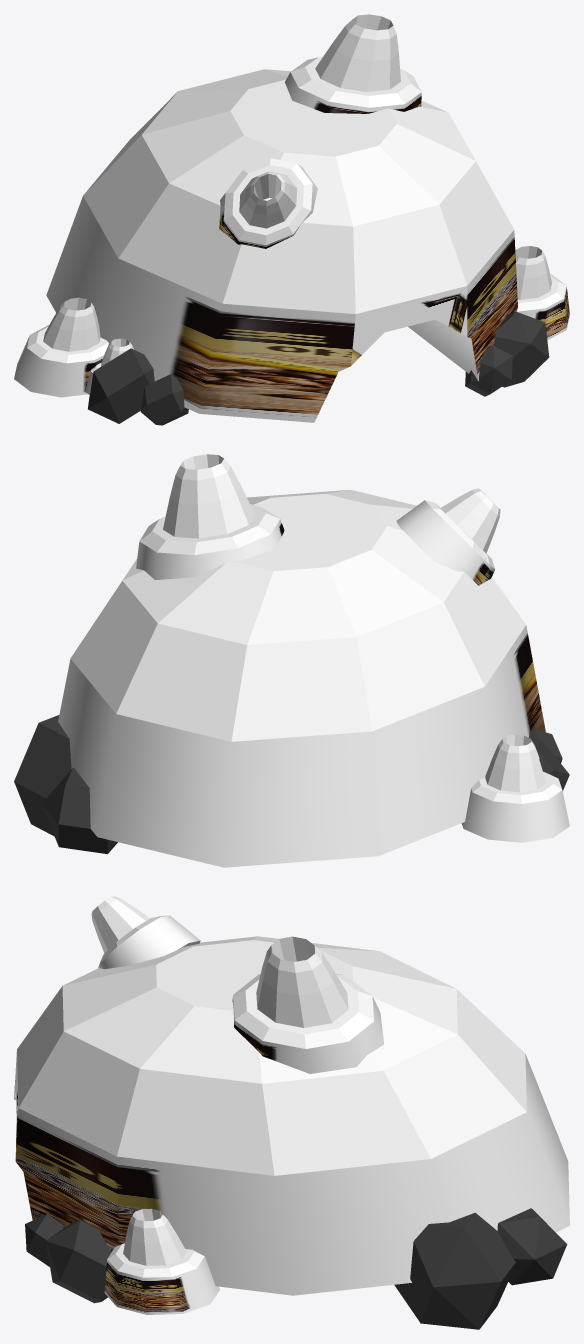
The model's file is ant_gull.FBX.
The picture shows the model from 3 angles, top to bottom: view 1: azimuth 30°, elevation 25°; view 2: azimuth 150°, elevation 25°; view 3: azimuth 270°, elevation 25°; orthographic projection. The views are drawn at different scales.
Visible parts, largest first — view 1: Sphere004, Cylinder006; view 2: Sphere004; view 3: Sphere004.
Boxes of the visible parts, x1,y1,x2,y2 form: Sphere004: (14,14,569,425); Cylinder006: (85,338,133,394); Sphere004: (14,454,569,867); Sphere004: (14,896,569,1329).
Size of the model in its own units: 125 by 79.6 by 116.
Materials: 2 (1 with a texture image).
